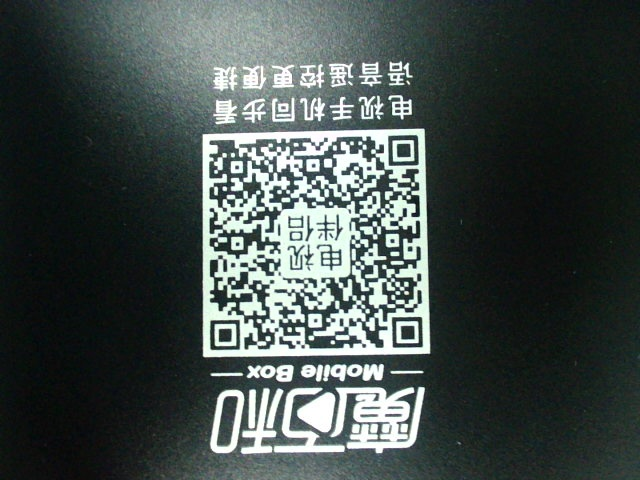AZ_MobileBox: (182, 60, 438, 458)
